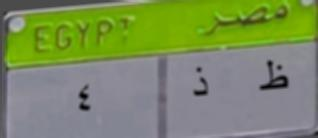4: (69, 71, 98, 124)
Thaa: (257, 53, 293, 99)
zaal: (184, 62, 217, 99)
